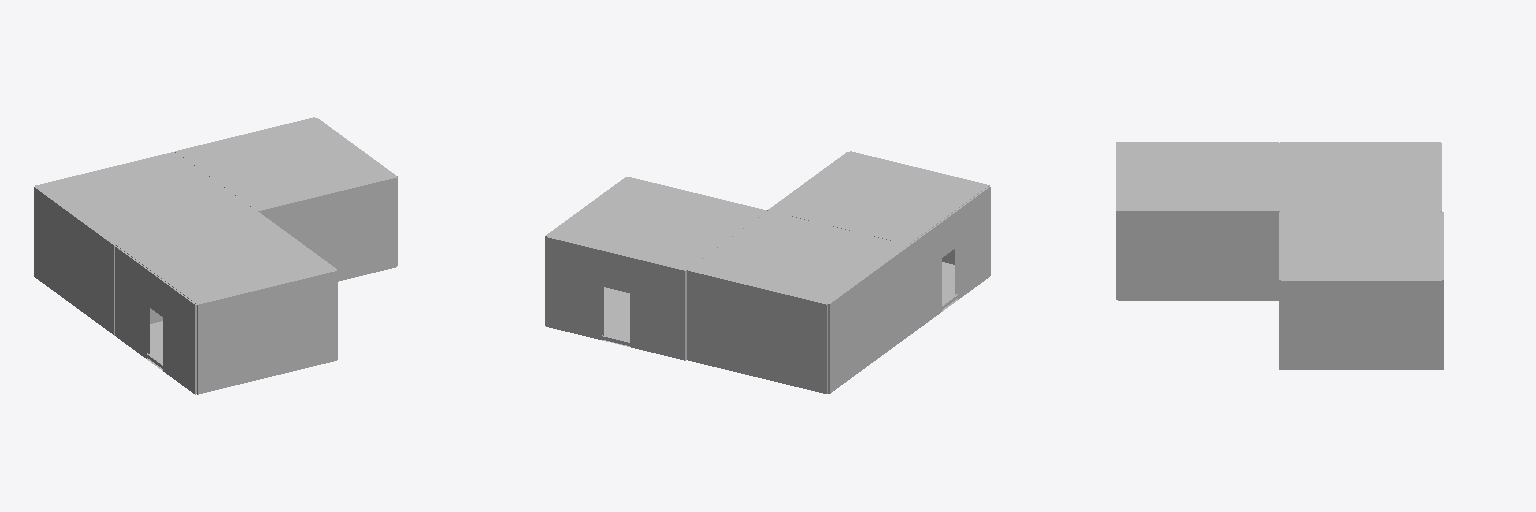
Rendered from house.obj.
3 renders of one model, left to right at view 1: azimuth 30°, elevation 25°; view 2: azimuth 150°, elevation 25°; view 3: azimuth 270°, elevation 25°, orthographic.
Visible parts, largest first — view 1: Cube.007, Cube.006, Cube.012, Cube.017, Cube.008, Cube.003, Cube.009, Cube.011; view 2: Cube.001, Cube.013, Cube.017, Cube.006, Cube.012, Cube.003, Cube.009, Cube.016, Cube.011; view 3: Cube.010, Cube.015, Cube.006, Cube.012, Cube.017.
Boxes of the visible parts, box(x1,y1,x2,y2) form: Cube.007: box(196, 270, 336, 394); Cube.006: box(37, 152, 254, 244); Cube.012: box(116, 212, 332, 303); Cube.017: box(177, 119, 392, 210); Cube.008: box(258, 176, 396, 281); Cube.003: box(34, 186, 115, 335); Cube.009: box(115, 246, 196, 394); Cube.011: box(147, 321, 162, 368); Cube.001: box(688, 270, 827, 393); Cube.013: box(546, 236, 686, 360); Cube.017: box(549, 177, 766, 269); Cube.006: box(689, 211, 905, 303); Cube.012: box(771, 153, 988, 244); Cube.003: box(828, 245, 909, 393); Cube.009: box(909, 186, 990, 334); Cube.016: box(602, 287, 629, 345); Cube.011: box(942, 262, 957, 309); Cube.010: box(1118, 210, 1278, 300); Cube.015: box(1281, 279, 1441, 369); Cube.006: box(1280, 143, 1440, 210); Cube.012: box(1118, 142, 1278, 210); Cube.017: box(1281, 212, 1441, 279).
Bounding box in the file's own units: 52.9 × 16.09 × 52.82.